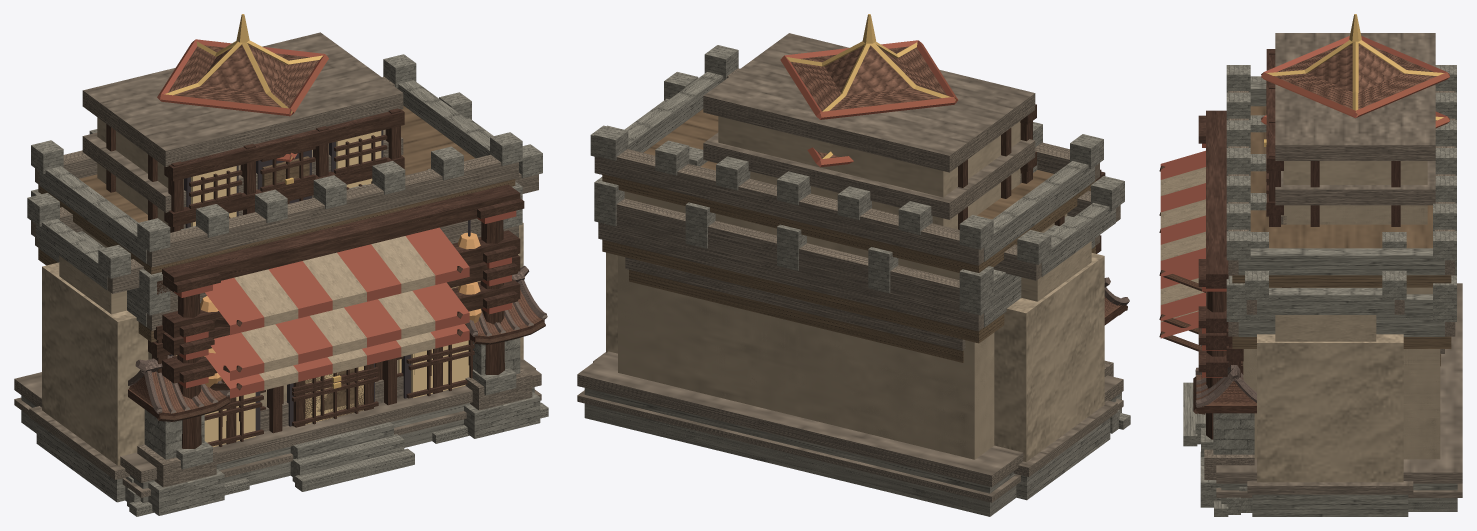
The model's file is regional_highland.glb.
3 views of the same model, side by side, from view 1: azimuth 30°, elevation 25°; view 2: azimuth 150°, elevation 25°; view 3: azimuth 270°, elevation 25° (orthographic). The views are drawn at different scales.
Visible parts, largest first — view 1: hall, wing, gate, home, shop, cottage; view 2: hall, wing, gate, home, cottage; view 3: hall, gate, wing, home, cottage.
Boxes of the visible parts, bbox=[...] form: hall: bbox=[14, 14, 547, 515]; wing: bbox=[14, 132, 541, 502]; gate: bbox=[27, 92, 548, 516]; home: bbox=[35, 209, 522, 432]; shop: bbox=[204, 341, 474, 447]; cottage: bbox=[162, 278, 520, 410]; hall: bbox=[577, 14, 1129, 516]; wing: bbox=[577, 132, 1123, 516]; gate: bbox=[590, 72, 1130, 500]; home: bbox=[594, 203, 1101, 458]; cottage: bbox=[625, 257, 965, 362]; hall: bbox=[1159, 14, 1462, 511]; gate: bbox=[1214, 76, 1413, 516]; wing: bbox=[1159, 111, 1462, 511]; home: bbox=[1159, 229, 1456, 459]; cottage: bbox=[1198, 349, 1444, 377].
Bounding box in the file's own units: 2.11 × 1.89 × 1.32.
1 material, 1 textured.
